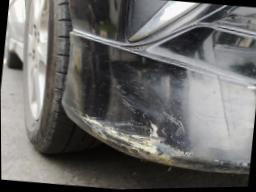Bumper: (61, 30, 233, 174)
